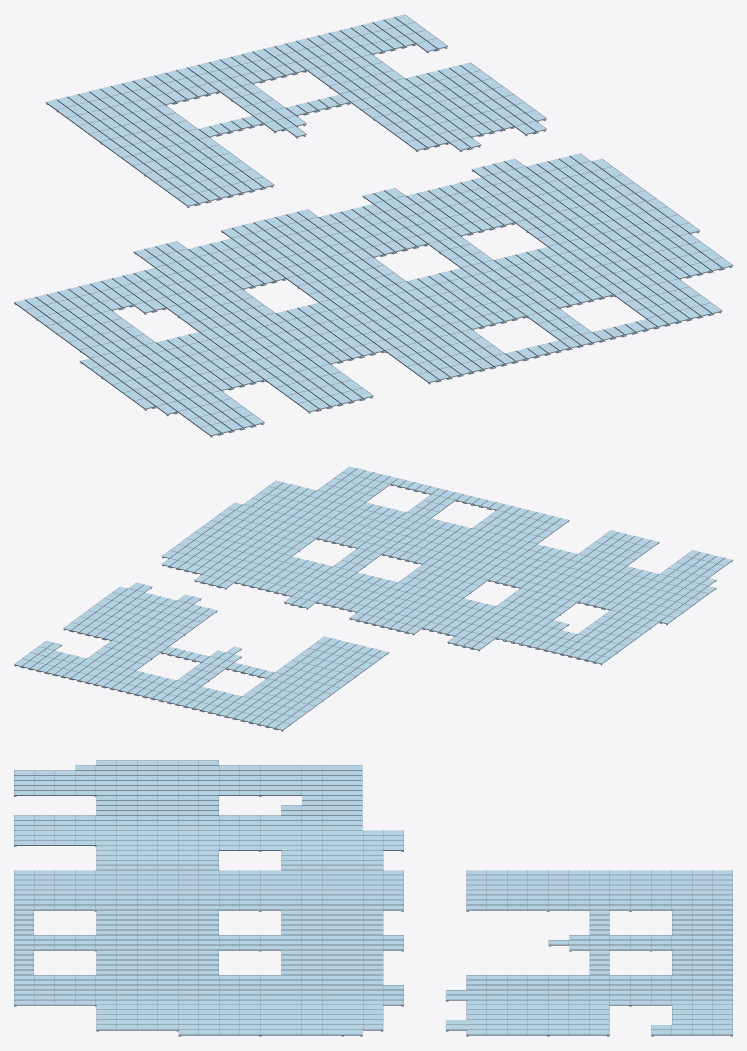
The model's file is SM_MPR4_SolarBank_00_0.fbx.
The picture shows the model from 3 angles, top to bottom: view 1: azimuth 30°, elevation 25°; view 2: azimuth 150°, elevation 25°; view 3: azimuth 270°, elevation 25°; orthographic projection. The views are drawn at different scales.
Visible parts, largest first — view 1: SM_MPR4_SolarBank_00_0; view 2: SM_MPR4_SolarBank_00_0; view 3: SM_MPR4_SolarBank_00_0.
Part boxes in pixels (x1,y1,x2,y2): SM_MPR4_SolarBank_00_0: [14, 14, 732, 437]; SM_MPR4_SolarBank_00_0: [14, 466, 732, 731]; SM_MPR4_SolarBank_00_0: [14, 760, 732, 1036].
Bounding box in the file's own units: 6153 × 6819 × 24.6.
